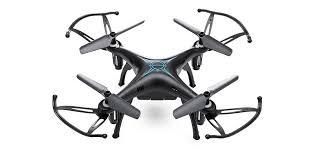drone: (48, 0, 268, 155)
